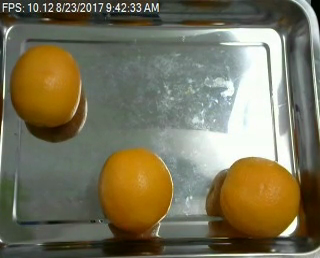Orange: (219, 156, 301, 236), (99, 148, 173, 230), (11, 43, 82, 126)
